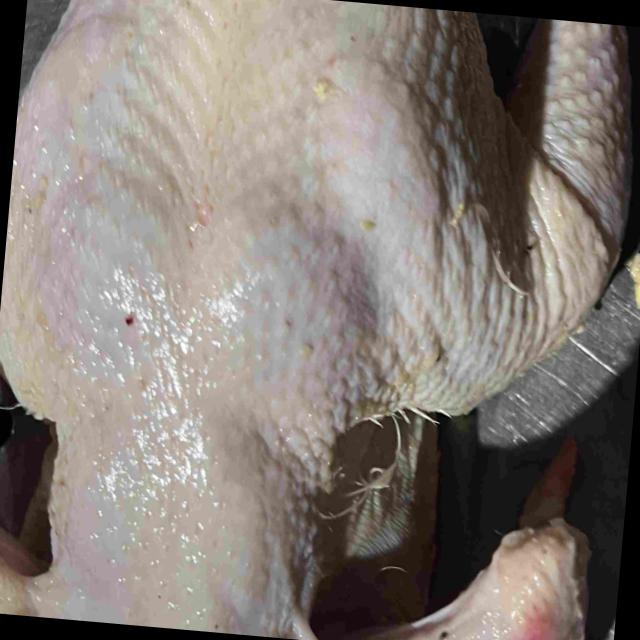back: (0, 0, 388, 417)
leg: (379, 5, 629, 414)
wing: (347, 437, 588, 640)
